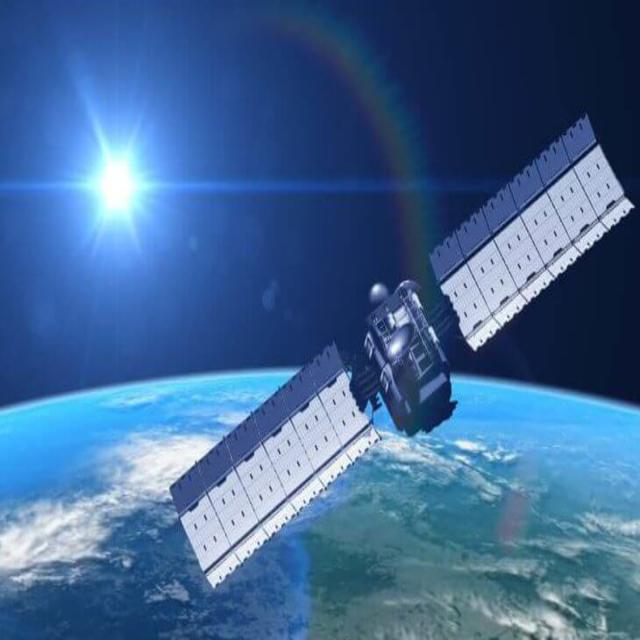medium_debris: (158, 108, 640, 582)
